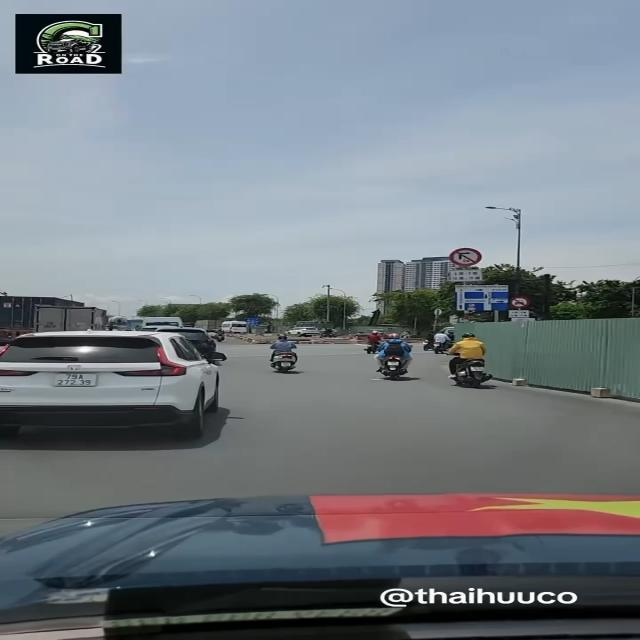103a-cam-oto: (510, 296, 530, 308)
103b-cam-oto-re-phai: (448, 246, 483, 266)
